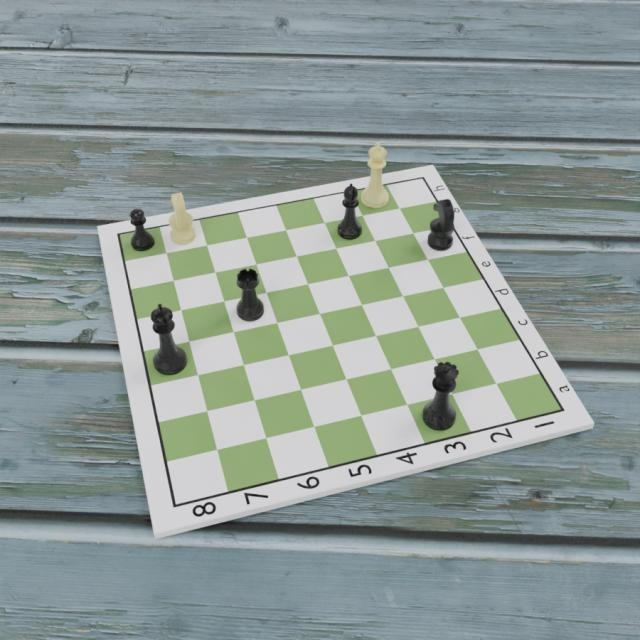black-bishop: (337, 183, 363, 241)
black-king: (149, 300, 187, 375)
black-knight: (428, 198, 456, 252)
black-pawn: (130, 207, 156, 252)
black-queen: (421, 360, 459, 432)
black-rook: (235, 265, 265, 322)
white-king: (361, 140, 391, 208)
white-knight: (168, 190, 196, 246)
